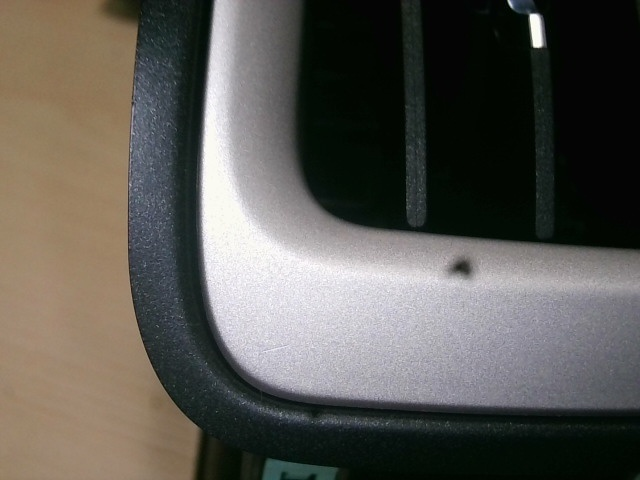NG: (260, 338, 294, 363)
